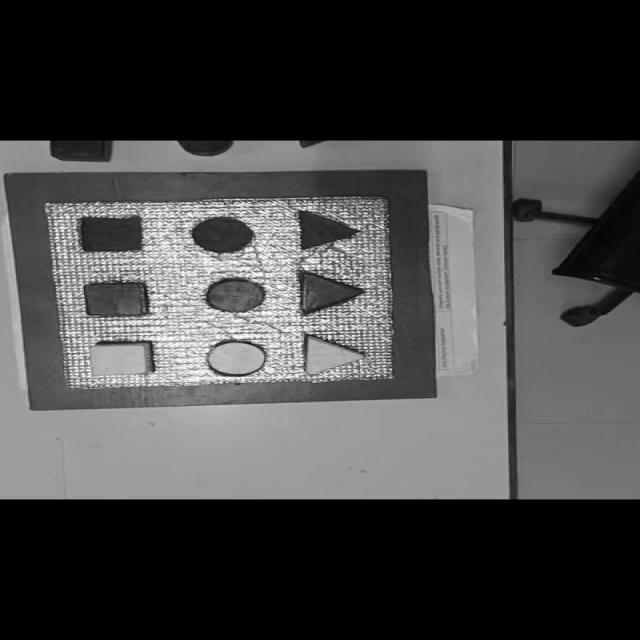bcircle: (177, 141, 233, 156)
bcube: (49, 140, 114, 162)
mtcircle: (190, 216, 256, 254)
mtcube: (78, 215, 145, 252)
mttriangle: (296, 210, 362, 250)
rcircle: (205, 278, 268, 313)
rcube: (82, 281, 151, 317)
rtriangle: (300, 272, 364, 314)
wb: (48, 196, 397, 390)
ycircle: (205, 340, 268, 376)
ycube: (88, 340, 156, 378)
ytriangle: (301, 333, 367, 376)
